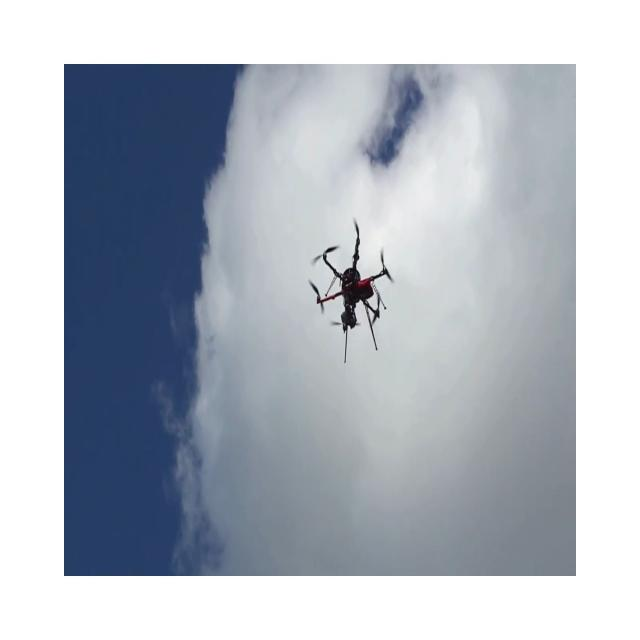drone: (308, 217, 394, 363)
